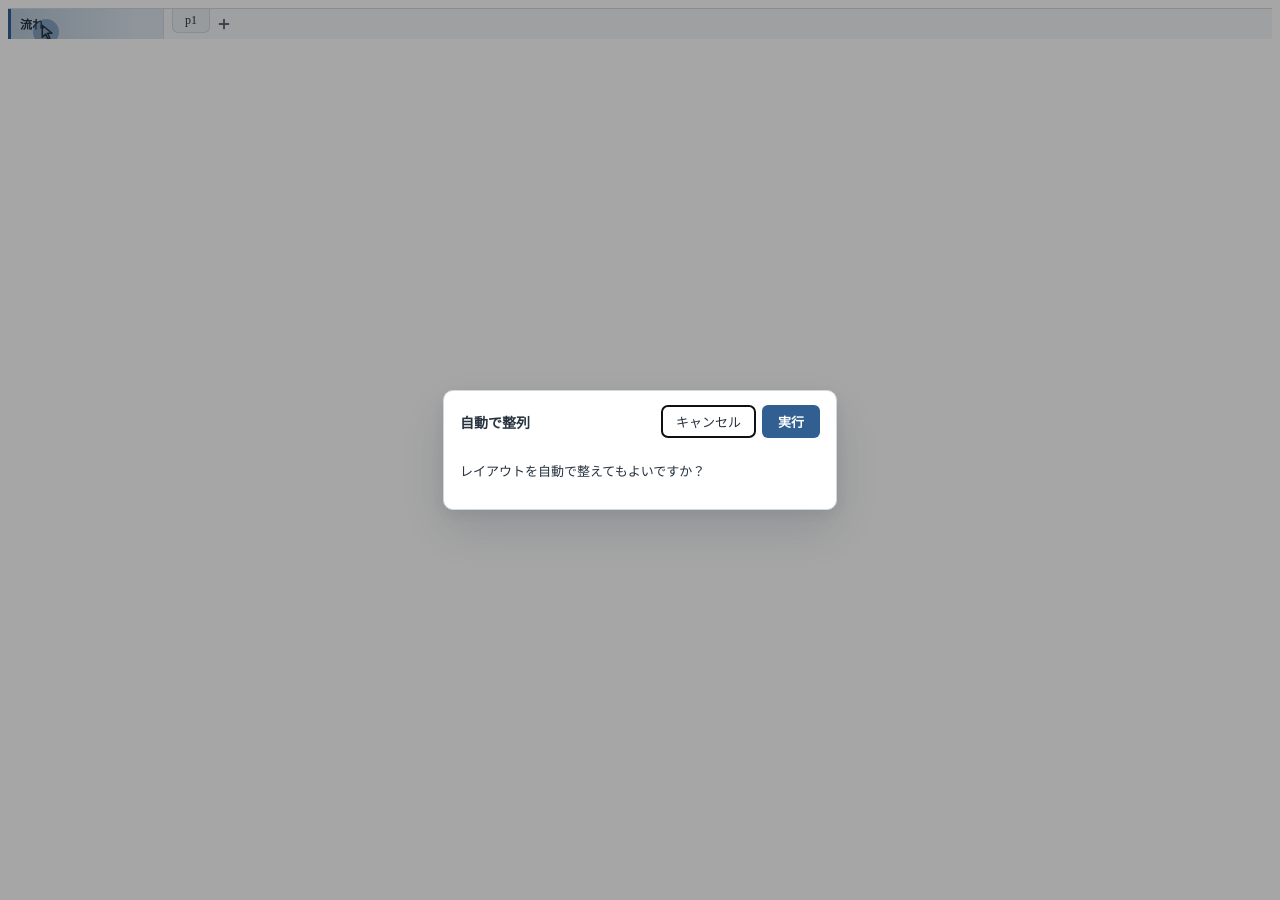
確認のダイアログの実行が紙に収まらず断られたら、閉じずに理由を出す
Click the button "実行" at (791, 422), box x1=762 y1=405 x2=820 y2=438
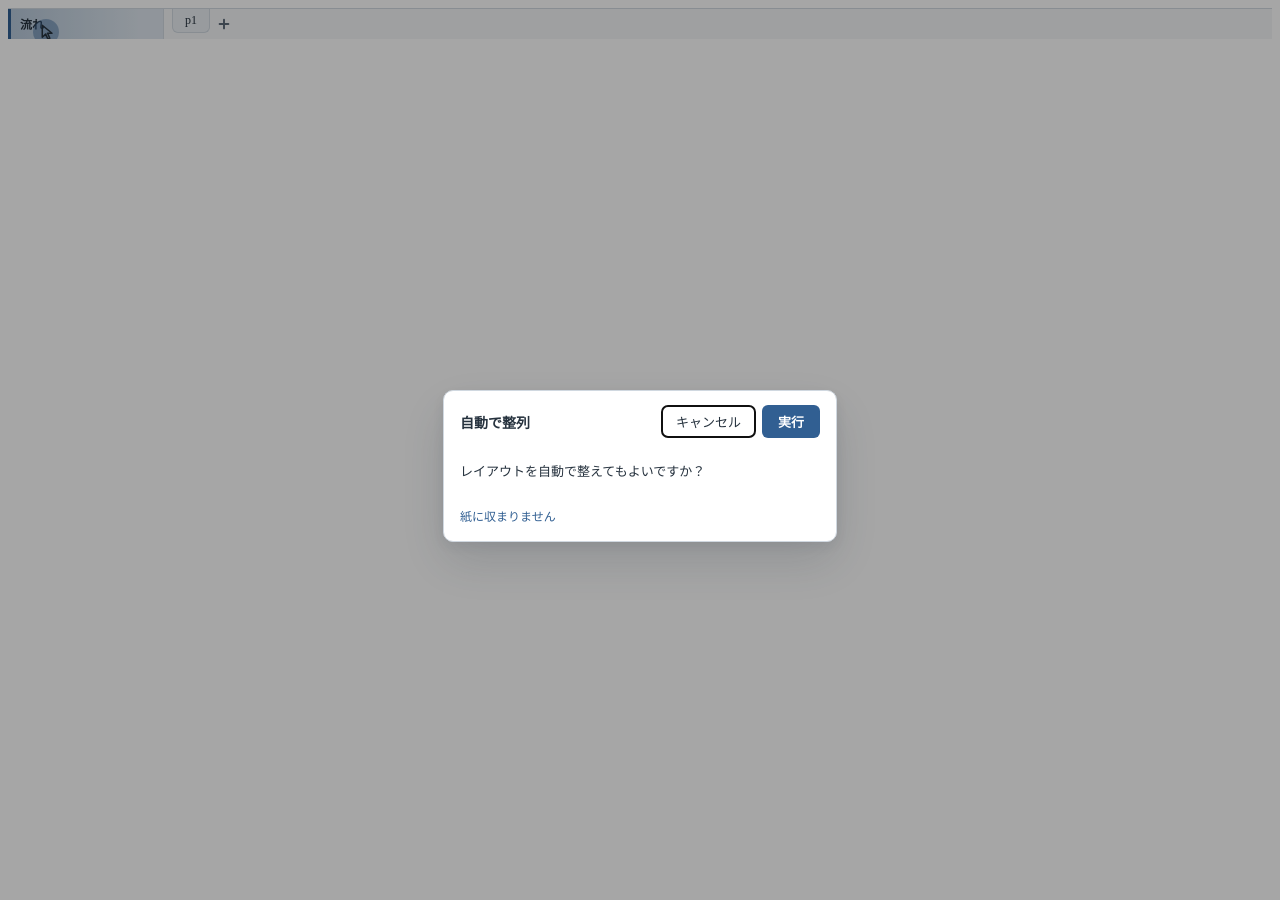
Now the text "紙に収まりません" is shown, box x1=460 y1=510 x2=556 y2=524
